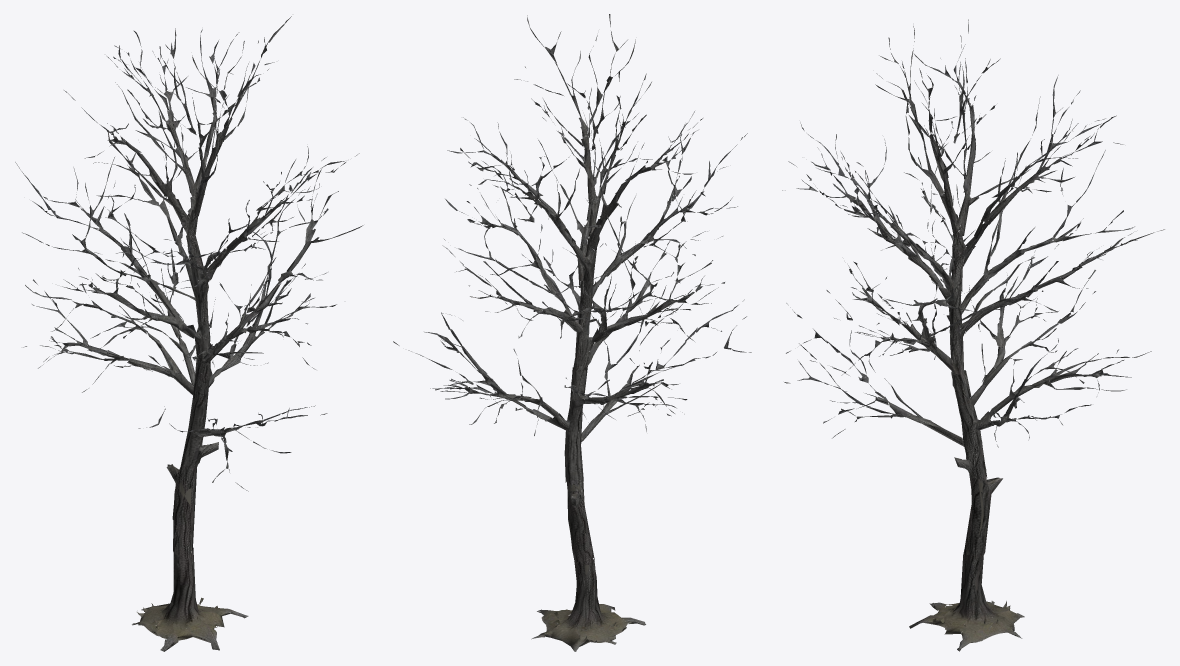
File: tree_winter_b.glb
3 renders of one model, left to right at view 1: azimuth 30°, elevation 25°; view 2: azimuth 150°, elevation 25°; view 3: azimuth 270°, elevation 25°, orthographic. The views are drawn at different scales.
Parts seen in each view (by area): view 1: Mesh_0; view 2: Mesh_0; view 3: Mesh_0.
Boxes of the visible parts, box(x1,y1,x2,y2) form: Mesh_0: box(15, 16, 363, 651); Mesh_0: box(393, 14, 751, 651); Mesh_0: box(782, 19, 1164, 651).
Size of the model in its own units: 4.02 by 7.94 by 4.62.
1 material, 1 textured.
